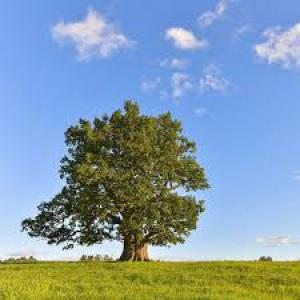Tree: (17, 100, 207, 265)
